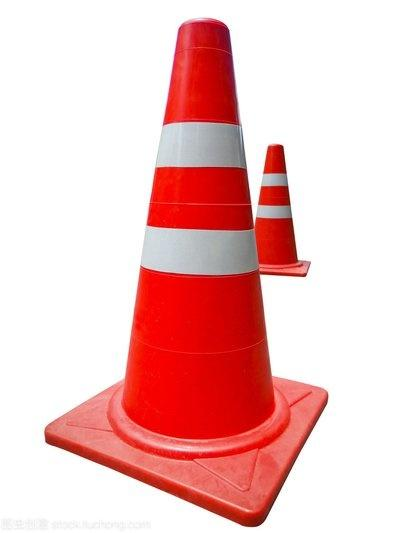cone_barrel: (107, 23, 285, 458), (247, 147, 308, 275)
